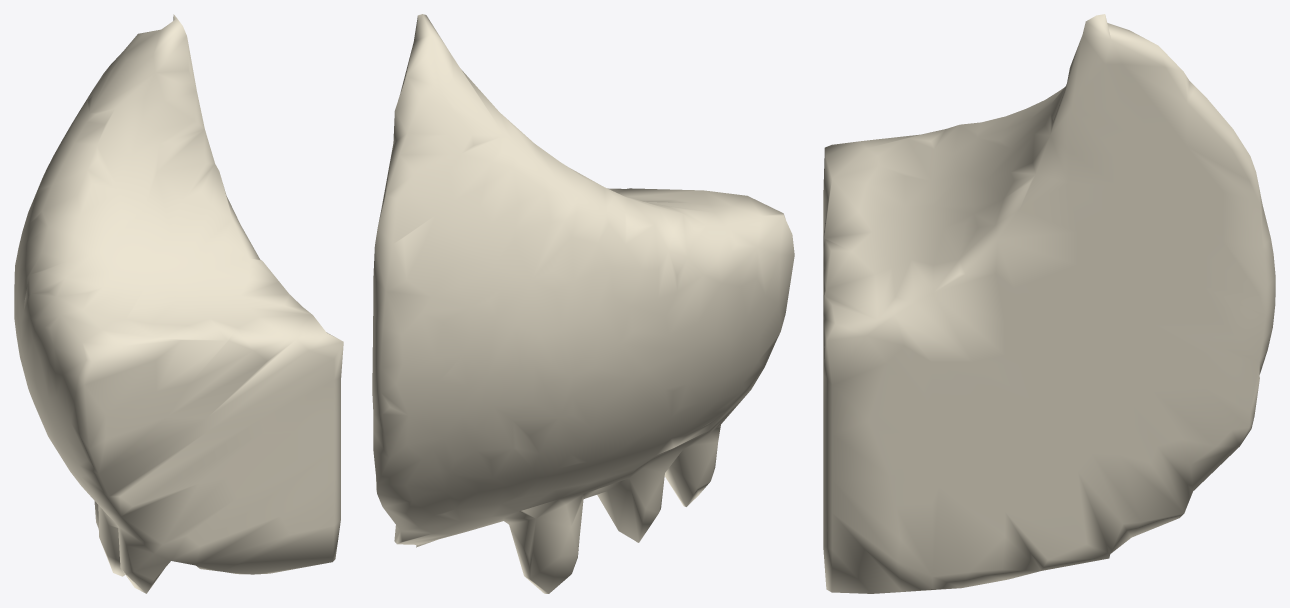
File: premaxilla_r.glb
3 renders of one model, left to right at view 1: azimuth 30°, elevation 25°; view 2: azimuth 150°, elevation 25°; view 3: azimuth 270°, elevation 25°, orthographic. The views are drawn at different scales.
Visible parts, largest first — view 1: geometry_0; view 2: geometry_0; view 3: geometry_0.
Boxes of the visible parts, x1=… form: geometry_0: x1=14, y1=14, x2=343, y2=593; geometry_0: x1=372, y1=14, x2=794, y2=593; geometry_0: x1=823, y1=14, x2=1275, y2=593.
Size of the model in its own units: 0.0791 by 0.145 by 0.0996.
